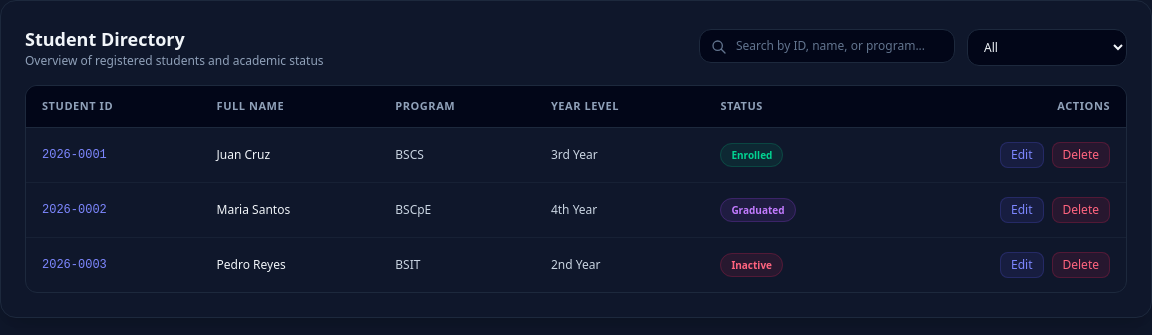
StudentTable - Module 9 Status Filter › shows no records when search and status do not match
The width and height of the screenshot is (1152, 335).
Type "Juan" into the field with placeholder "Search by ID, name, or program..." at (827, 46), box top-left (699, 28), bottom-right (955, 62)
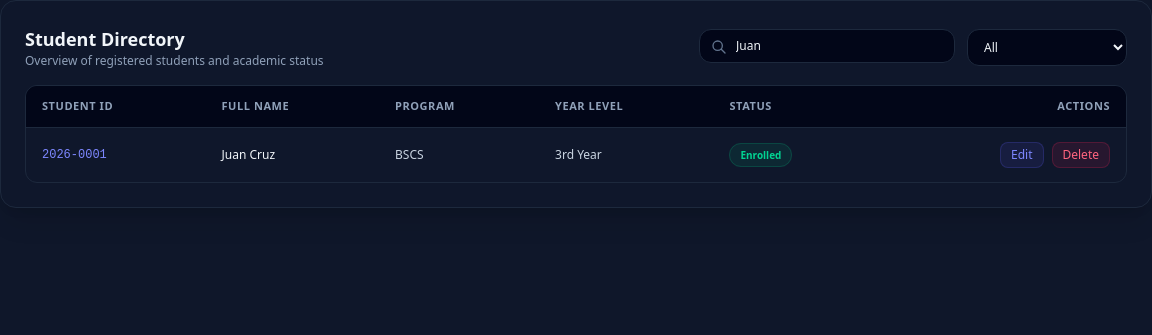
Select "Graduated" in the dropdown at (1047, 47), box top-left (967, 28), bottom-right (1127, 66)
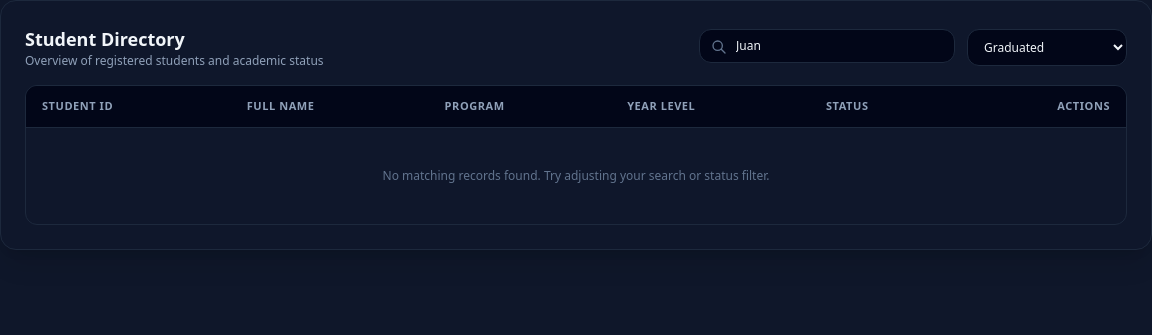
Now the text "No matching records found" is shown, box top-left (382, 166), bottom-right (769, 184)
